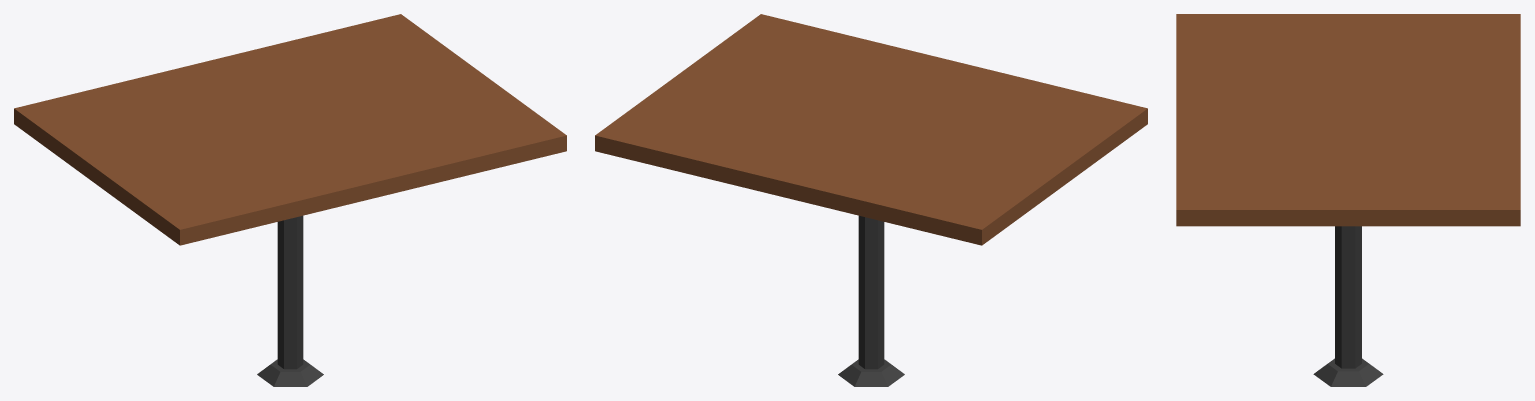
The model's file is booth_table.fbx.
3 renders of one model, left to right at view 1: azimuth 30°, elevation 25°; view 2: azimuth 150°, elevation 25°; view 3: azimuth 270°, elevation 25°, orthographic. The views are drawn at different scales.
Parts seen in each view (by area): view 1: Cube.001, Cylinder; view 2: Cube.001, Cylinder; view 3: Cube.001, Cylinder.
Boxes of the visible parts, x1=… form: Cube.001: x1=14, y1=14, x2=566, y2=245; Cylinder: x1=257, y1=215, x2=323, y2=386; Cube.001: x1=595, y1=14, x2=1147, y2=245; Cylinder: x1=838, y1=215, x2=904, y2=386; Cube.001: x1=1176, y1=14, x2=1520, y2=226; Cylinder: x1=1313, y1=226, x2=1383, y2=386.
Bounding box in the file's own units: 446 × 278 × 331.
